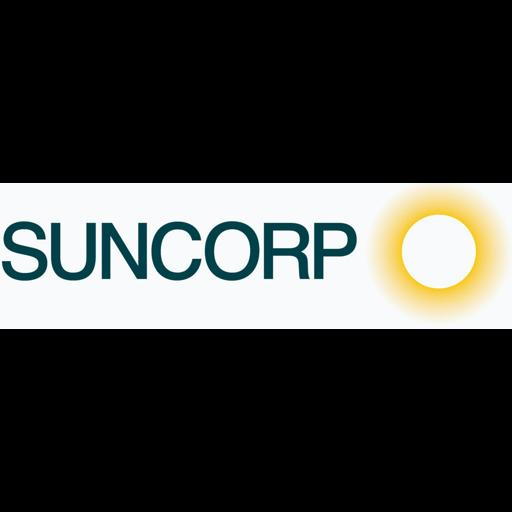Suncorp Group: (0, 183, 512, 329)
